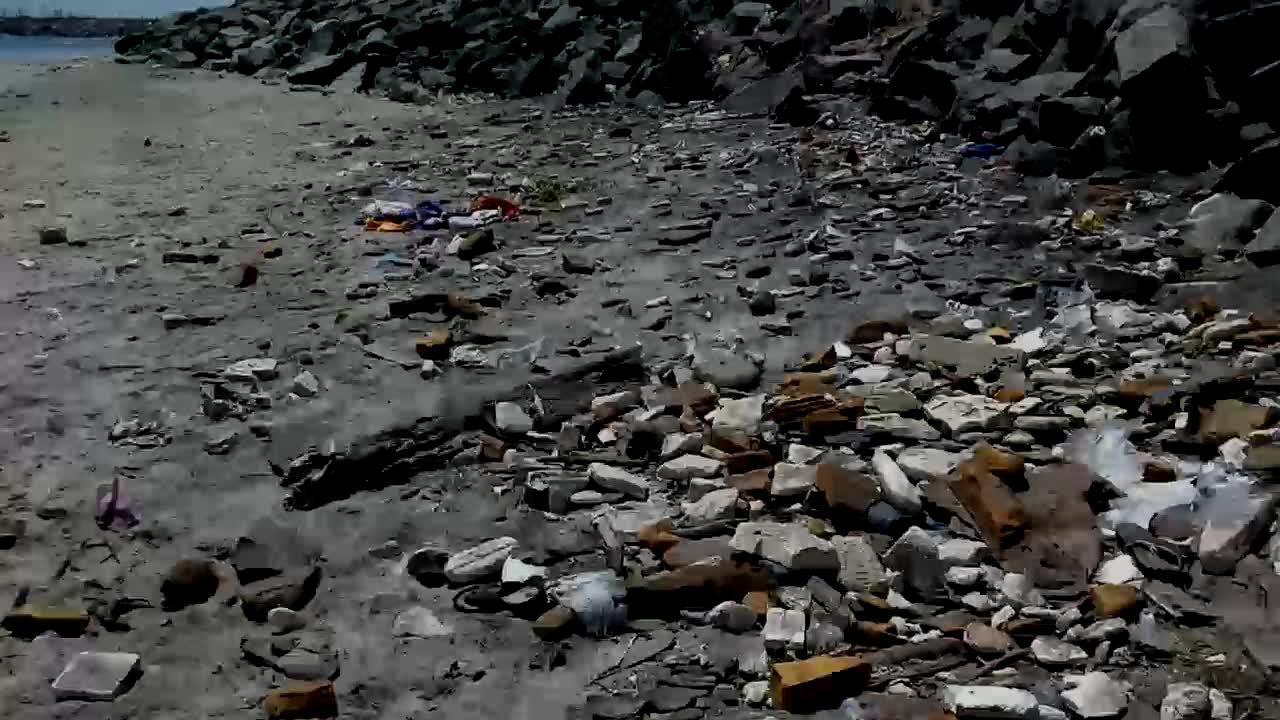large collection of objects: (781, 114, 940, 188)
obj: (404, 300, 1279, 719), (287, 344, 648, 509), (1058, 421, 1260, 555), (199, 358, 322, 450), (352, 188, 514, 234), (764, 376, 864, 436), (763, 656, 871, 711), (48, 652, 146, 702), (241, 564, 319, 618), (816, 463, 879, 516), (158, 554, 213, 606), (2, 604, 91, 636), (264, 681, 338, 719)
sand/background: (0, 0, 1279, 239)
